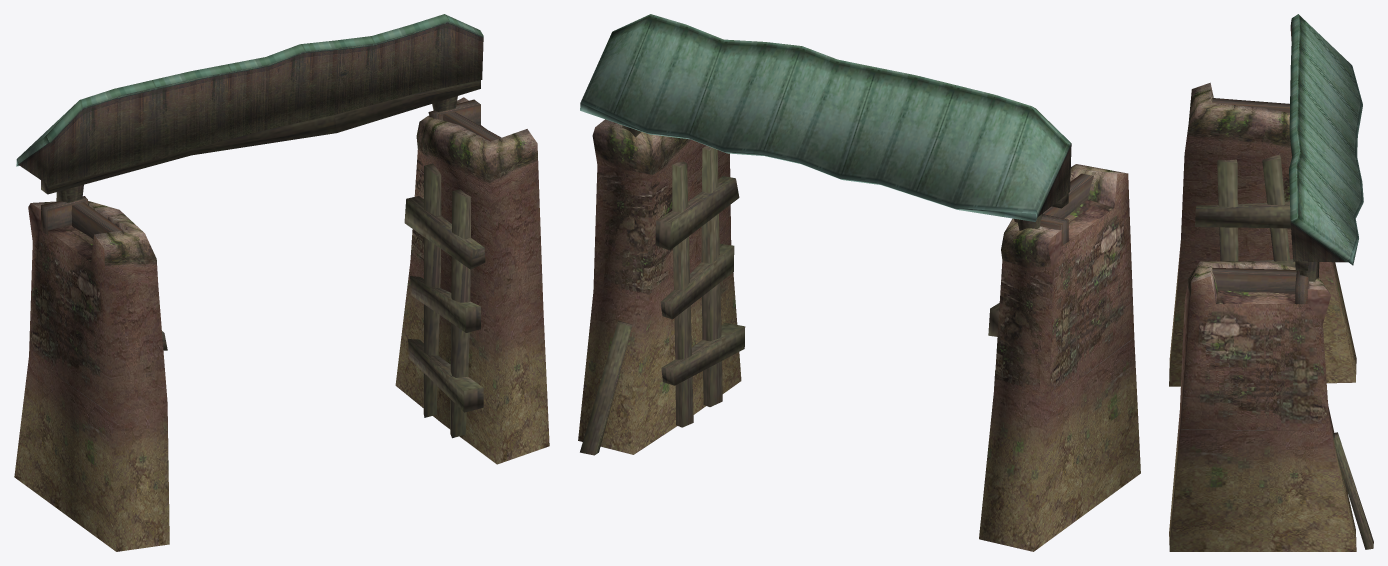
Rendered from smallwall_gate.FBX.
The picture shows the model from 3 angles, left to right: view 1: azimuth 30°, elevation 25°; view 2: azimuth 150°, elevation 25°; view 3: azimuth 270°, elevation 25°; orthographic projection. The views are drawn at different scales.
Visible parts, largest first — view 1: C1SMWAV; view 2: C1SMWAV; view 3: C1SMWAV.
Boxes of the visible parts, x1,y1,x2,y2 form: C1SMWAV: (14, 14, 549, 551); C1SMWAV: (578, 14, 1140, 551); C1SMWAV: (1169, 14, 1373, 551).
Size of the model in its own units: 15 by 13.25 by 6.71.
4 materials, 4 textured.
